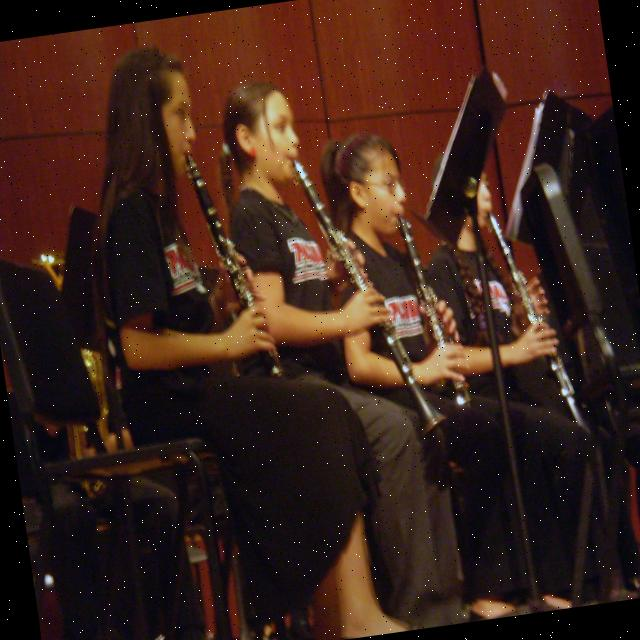clarinet: (286, 140, 452, 458), (179, 142, 292, 392), (485, 200, 595, 454), (396, 209, 474, 422), (444, 229, 502, 360), (490, 254, 529, 336)
